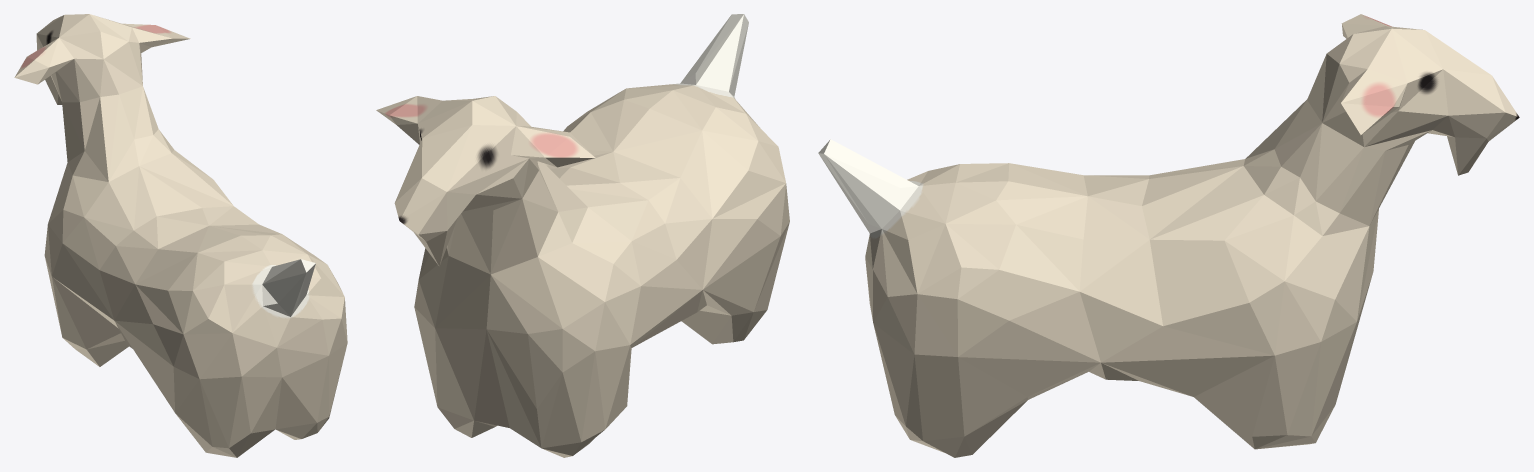
The model's file is animal_goat_doe_blob.obj.
3 renders of one model, left to right at view 1: azimuth 30°, elevation 25°; view 2: azimuth 150°, elevation 25°; view 3: azimuth 270°, elevation 25°, orthographic. The views are drawn at different scales.
Visible parts, largest first — view 1: animal_goat_doe_blob; view 2: animal_goat_doe_blob; view 3: animal_goat_doe_blob.
Part boxes in pixels (x1,y1,x2,y2): animal_goat_doe_blob: (14, 14, 347, 457); animal_goat_doe_blob: (376, 14, 789, 457); animal_goat_doe_blob: (818, 14, 1519, 457).
Bounding box in the file's own units: 0.342 × 0.5711 × 0.9013.
